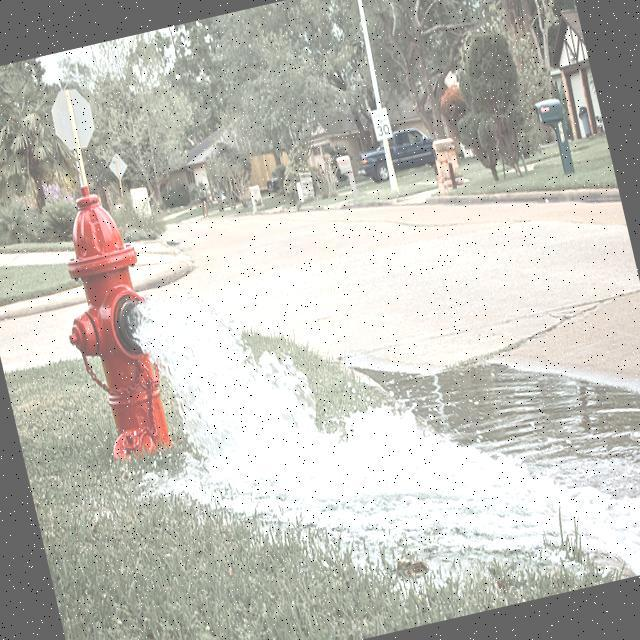fire_hydrant: (34, 174, 184, 468)
